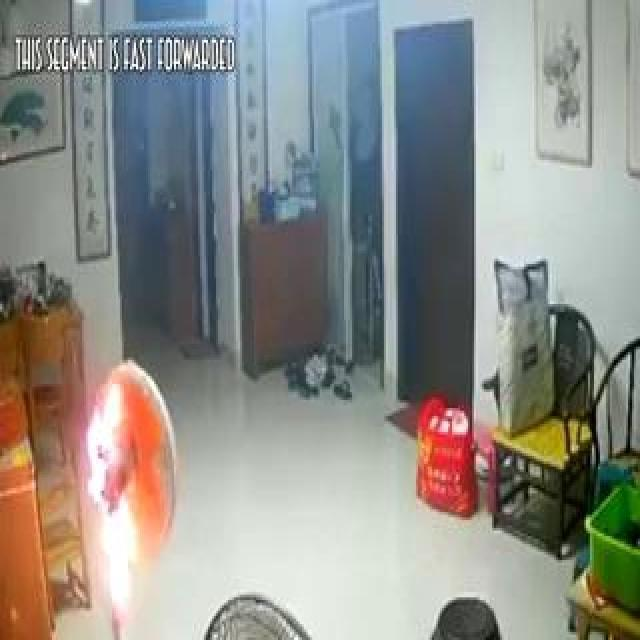Smoke: (84, 392, 158, 595)
